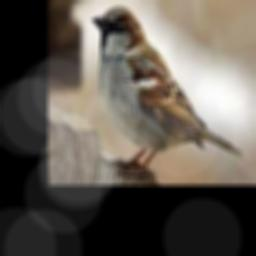Sparrow: (92, 7, 244, 179)
